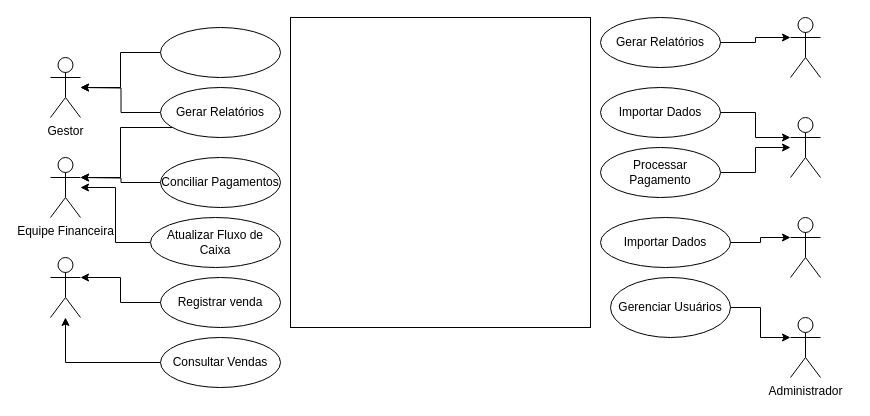
Image size: 870x416. Some labels were removed from this diagram. The centre of each missing label's shape, as x and y in pixels:
Acompanhar Processos: point 220,52
Contador: point 805,47
Equipe de Vendas: point 65,287
Operadoras de Pagamento: point 805,147
SGPD (Sistema de Gestão de Processos Digitais): point 440,172
Sistema Bancário: point 805,247
